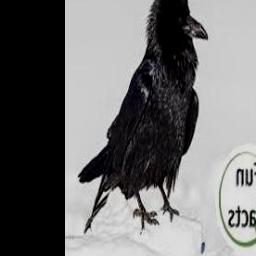Crow: (79, 0, 209, 234)
